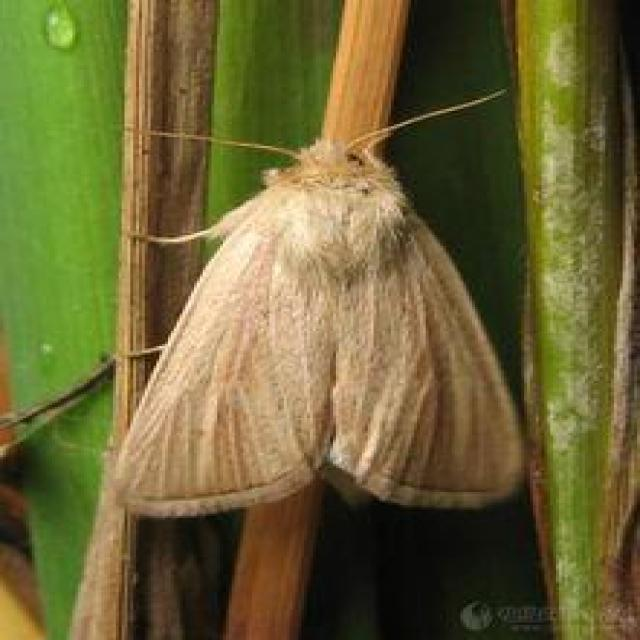yellow-stem-borer: (103, 82, 537, 546)
